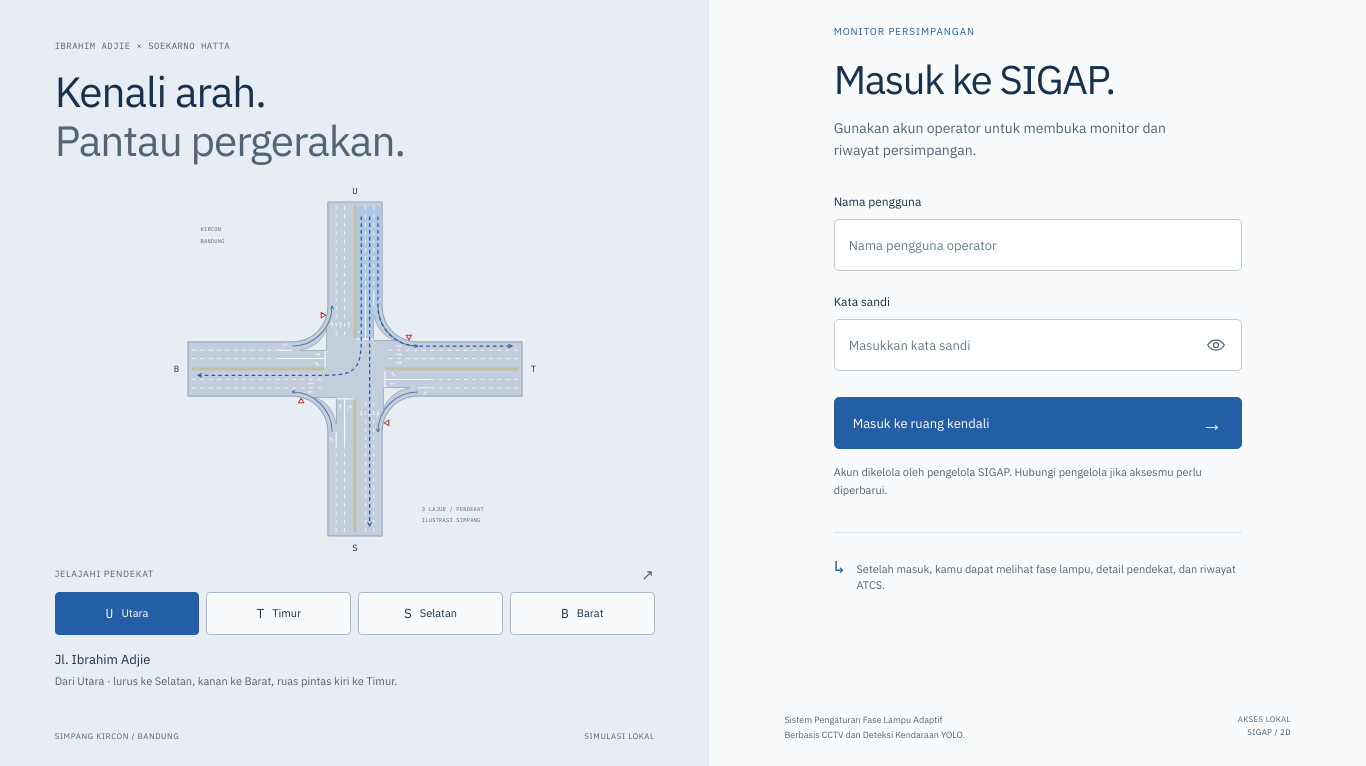
explores the same road geometry on login without showing live signals or vehicles
(page scrolled)
Click the button "B Barat" at (582, 614), box [510,592,655,635]
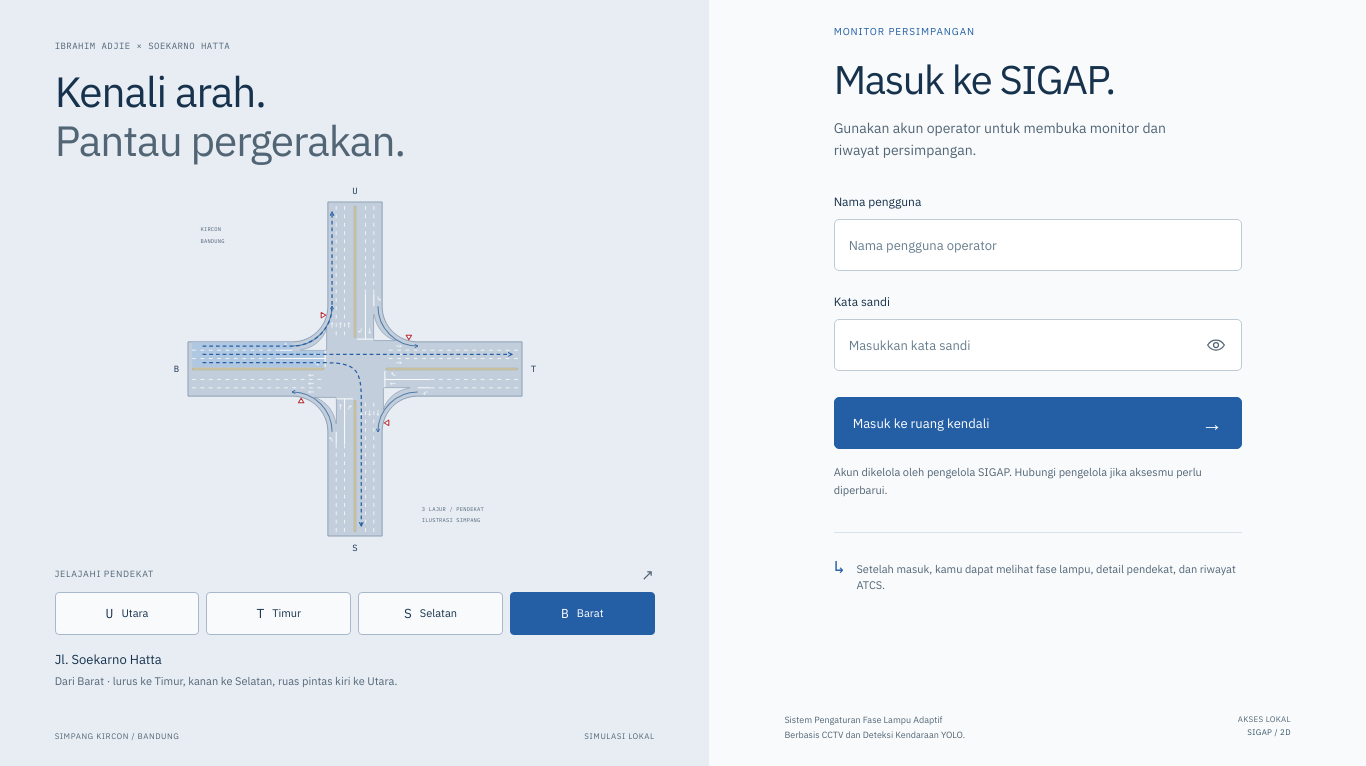
Expected: the picture named "Ilustrasi rute dari Barat" is shown, [55,179,655,559]
